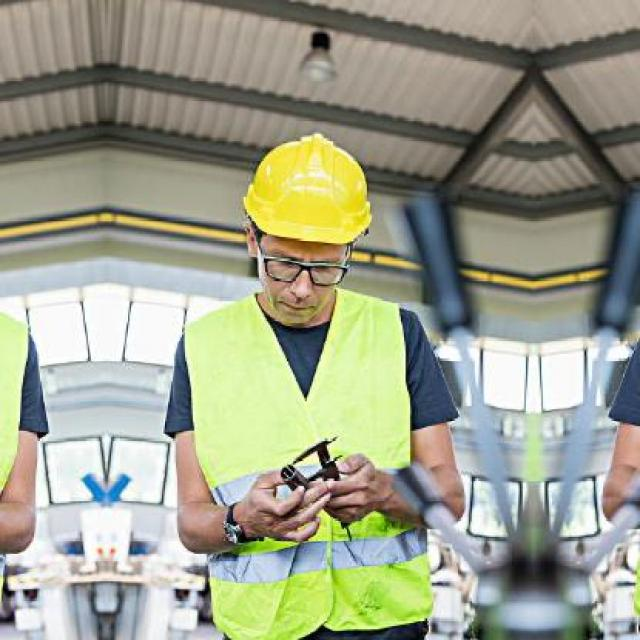Reflective-Jacket: (184, 289, 444, 634), (0, 280, 40, 518)
Safety-Helmet: (236, 130, 381, 252)
